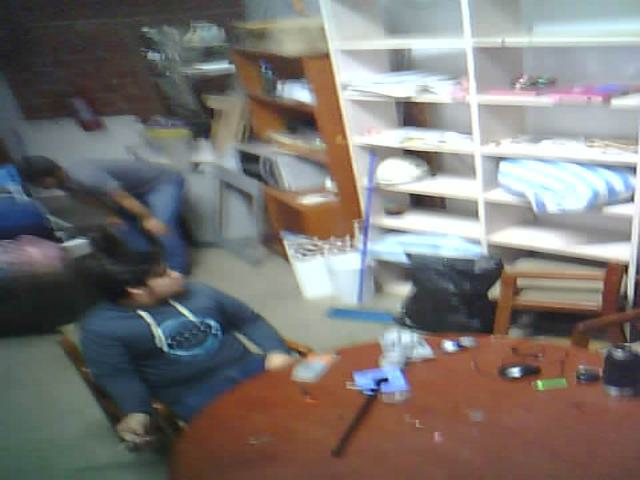person: (59, 237, 323, 447), (12, 147, 191, 243)
